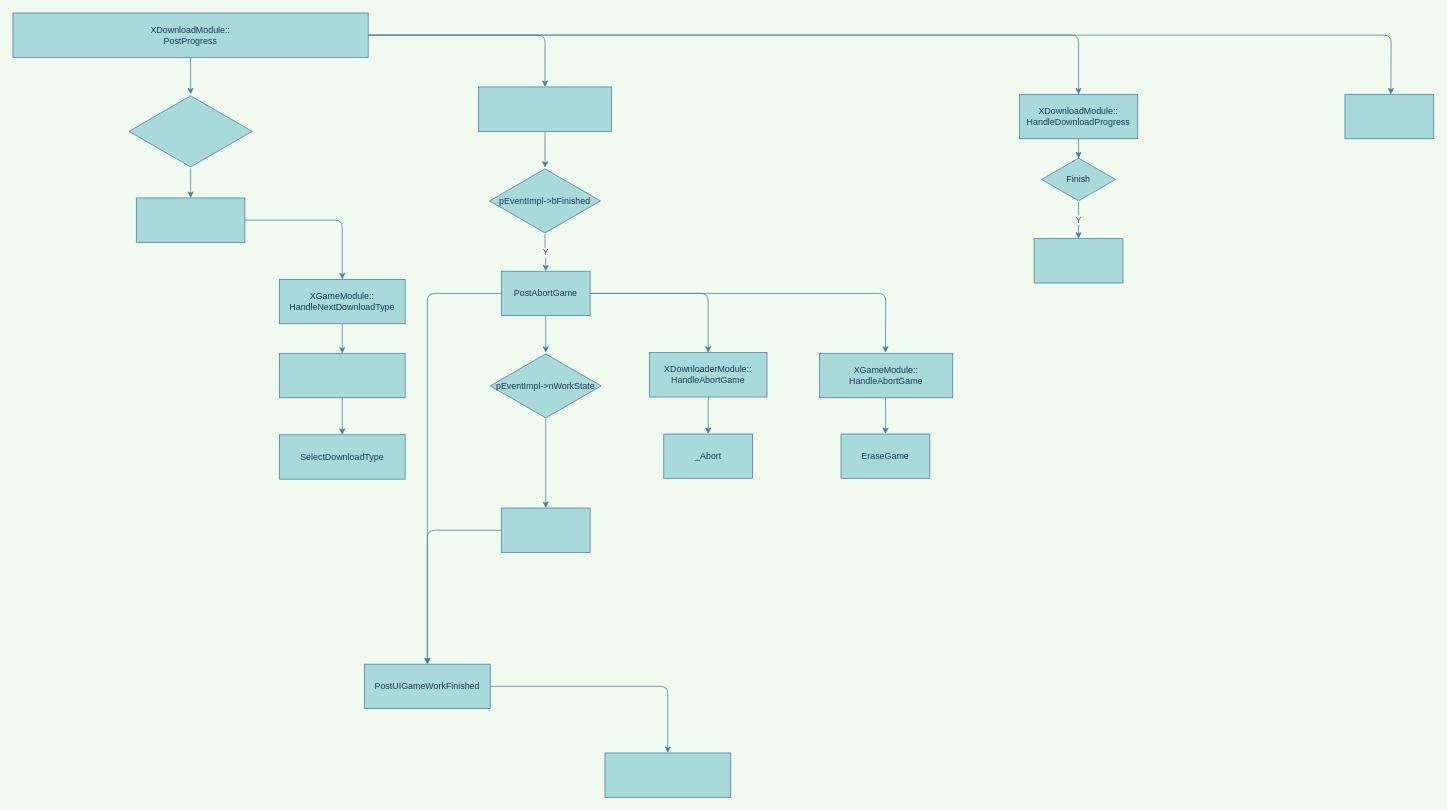
This 1447x810 diagram has some shape labels left out. Here are the shapes that lost their labels. From the top down, the centre of each, then its label:
(545,108): XGameModule:: HandleWorkProgress
(1389,116): XUIModule:: HandleWorkProgress
(190,131): emDownloadType eDownloadState
(190,219): PostNextDownloadType
(1078,260): DeleteTrash
(342,375): FinishDownloadType
(667,774): XUIModule:: HandleSetGameState
